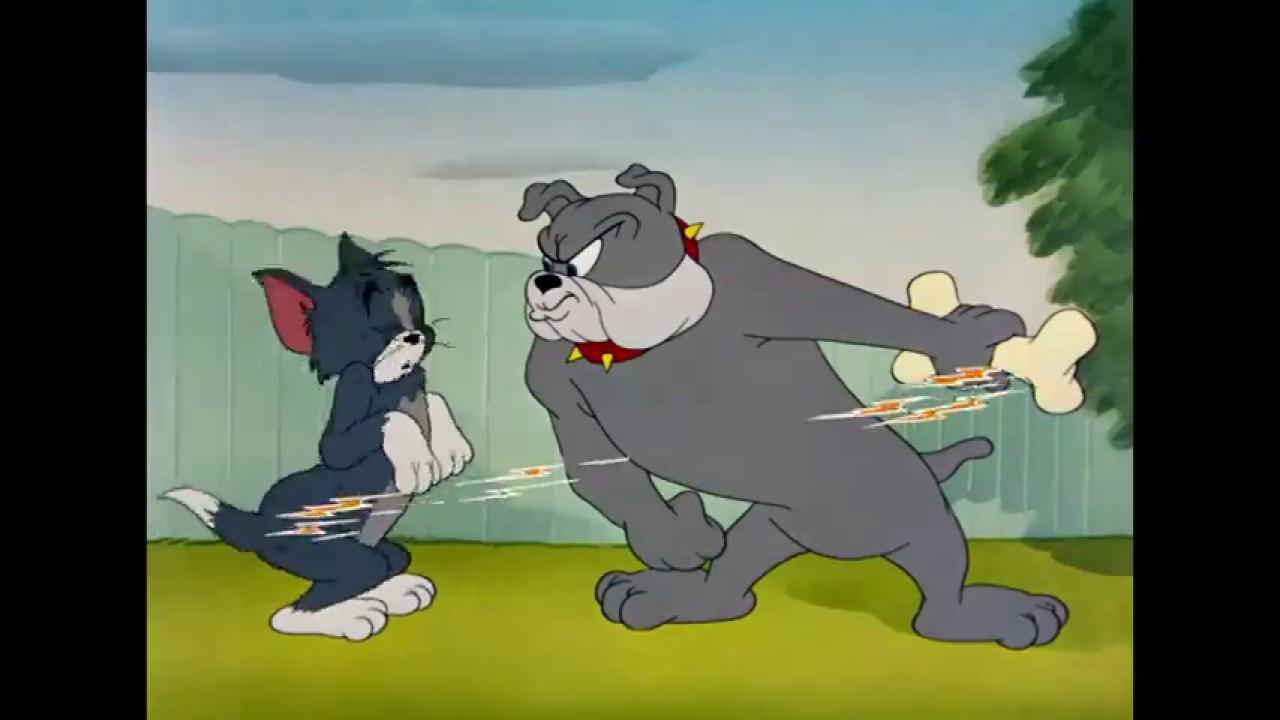Tom: (158, 228, 474, 642)
